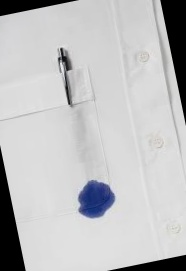ink: (73, 177, 118, 220)
